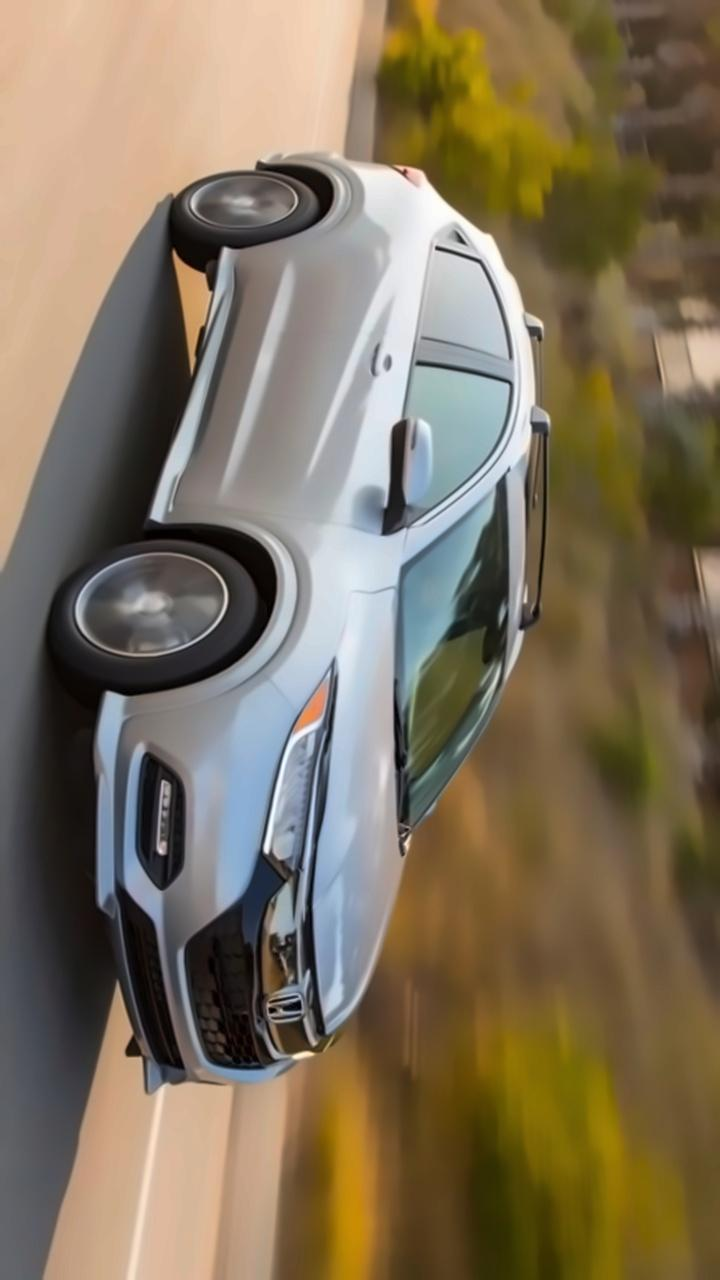Car hood: (312, 582, 419, 1055)
Driver-s door - -F-R-: (176, 342, 535, 528)
Fender - -F-R-: (146, 506, 415, 706)
Fender - -R-R-: (288, 171, 477, 235)
Front bumper: (82, 678, 279, 1106)
Headlight - -R-: (256, 644, 354, 884)
Passenger-s door - -R-R-: (224, 235, 523, 352)
Rear bumper: (242, 126, 344, 183)
Rear light - -R-: (372, 146, 434, 192)
Side bumper - -R-: (140, 222, 250, 533)
Side mirror - -R-: (372, 400, 441, 526)
